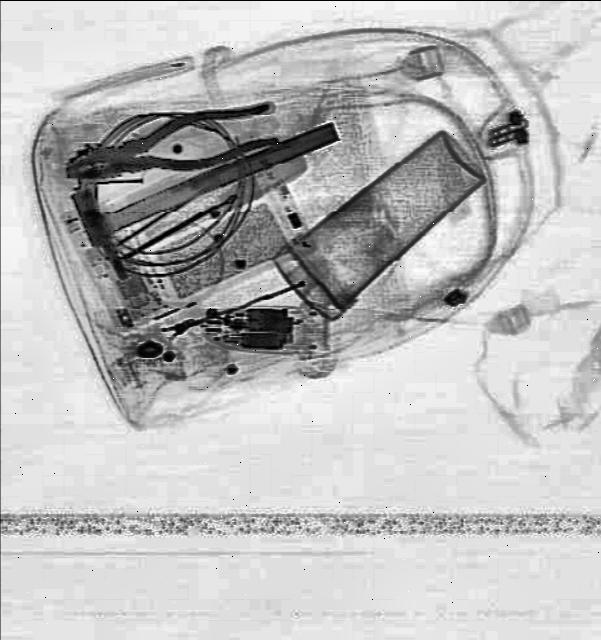Pliers: (60, 94, 284, 204)
